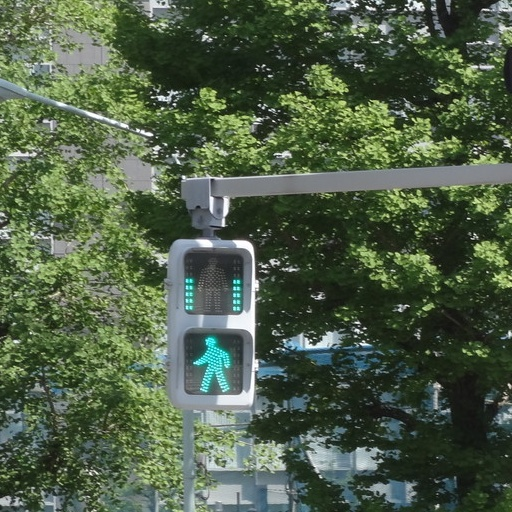Pedestrian_Signal_Blue: (162, 221, 264, 406)
